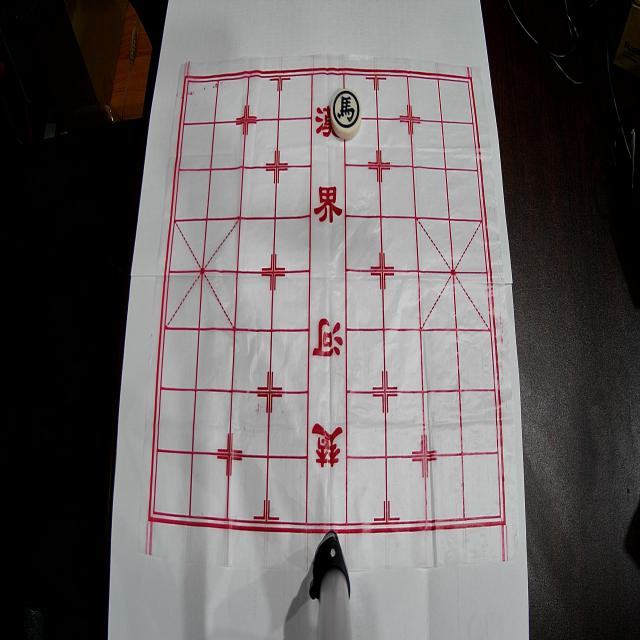black-horse: (330, 89, 362, 139)
